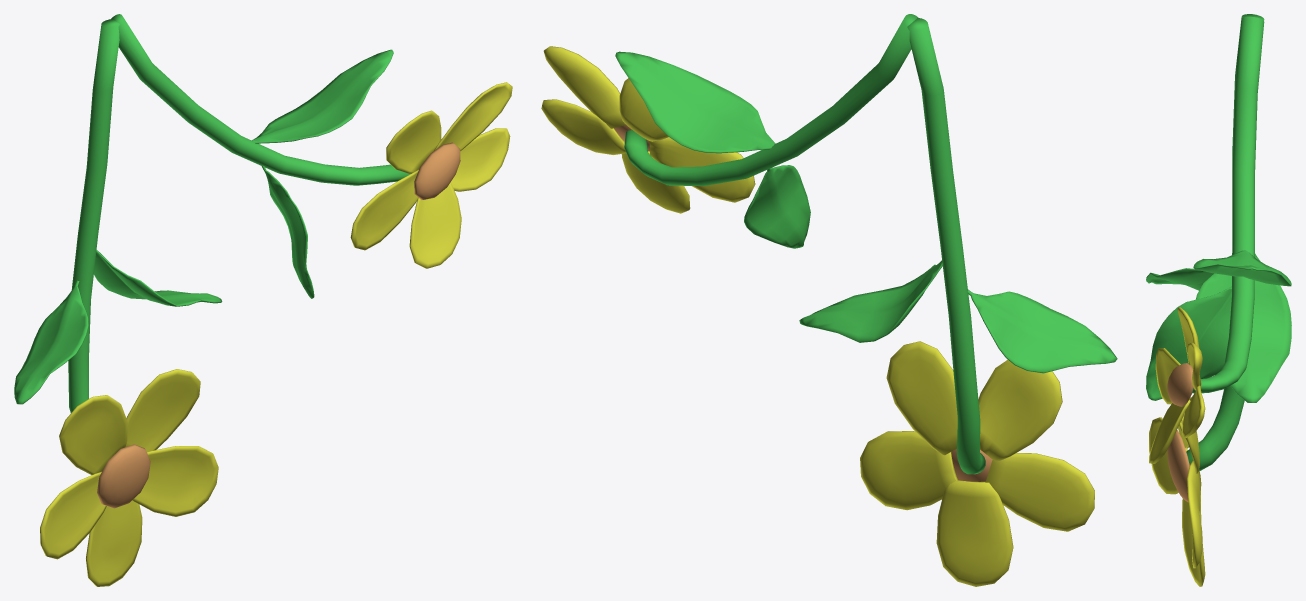
File: sunflower3.fbx
3 views of the same model, side by side, from view 1: azimuth 30°, elevation 25°; view 2: azimuth 150°, elevation 25°; view 3: azimuth 270°, elevation 25° (orthographic). The views are drawn at different scales.
Visible parts, largest first — view 1: stem01; view 2: stem01; view 3: stem01.
Part boxes in pixels (bbox=[...]): stem01: bbox=[14, 14, 512, 586]; stem01: bbox=[541, 14, 1117, 586]; stem01: bbox=[1146, 14, 1291, 586].
Bounding box in the file's own units: 13.82 × 13.93 × 3.14.
